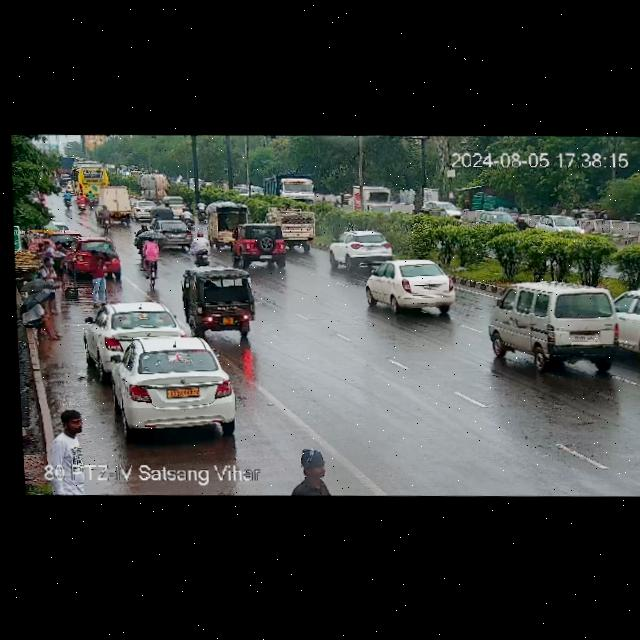bus: (69, 162, 105, 195)
car: (104, 334, 240, 434), (480, 274, 618, 365), (83, 301, 184, 363), (361, 257, 461, 316), (180, 264, 260, 334), (326, 229, 397, 271), (606, 282, 640, 360), (67, 235, 122, 280), (231, 223, 284, 267), (537, 212, 584, 240), (414, 201, 465, 223), (152, 218, 193, 245), (477, 207, 515, 229), (165, 195, 189, 215), (131, 199, 152, 218), (150, 206, 172, 220)
motorcycle: (139, 236, 162, 288), (188, 232, 212, 265), (97, 204, 111, 230), (136, 222, 148, 245)
person: (277, 444, 335, 497), (43, 404, 92, 460), (22, 300, 62, 341), (38, 256, 61, 313), (88, 249, 111, 303), (52, 240, 69, 287), (37, 238, 51, 253), (76, 191, 86, 210), (86, 190, 95, 208), (63, 190, 71, 209)
truck: (269, 207, 320, 249), (205, 201, 247, 245), (96, 184, 136, 223), (262, 175, 310, 201), (352, 184, 393, 214), (141, 175, 169, 201)
